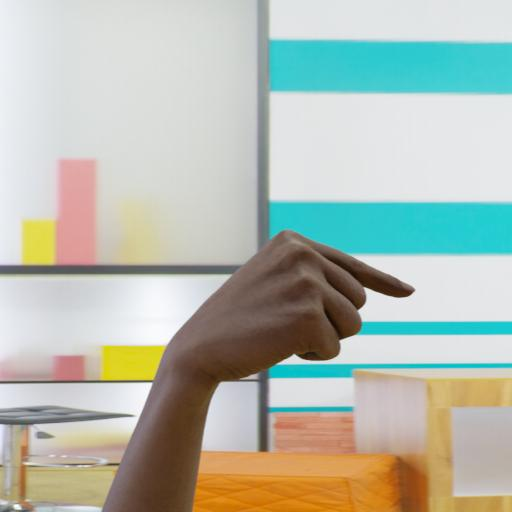G: (158, 224, 420, 385)
